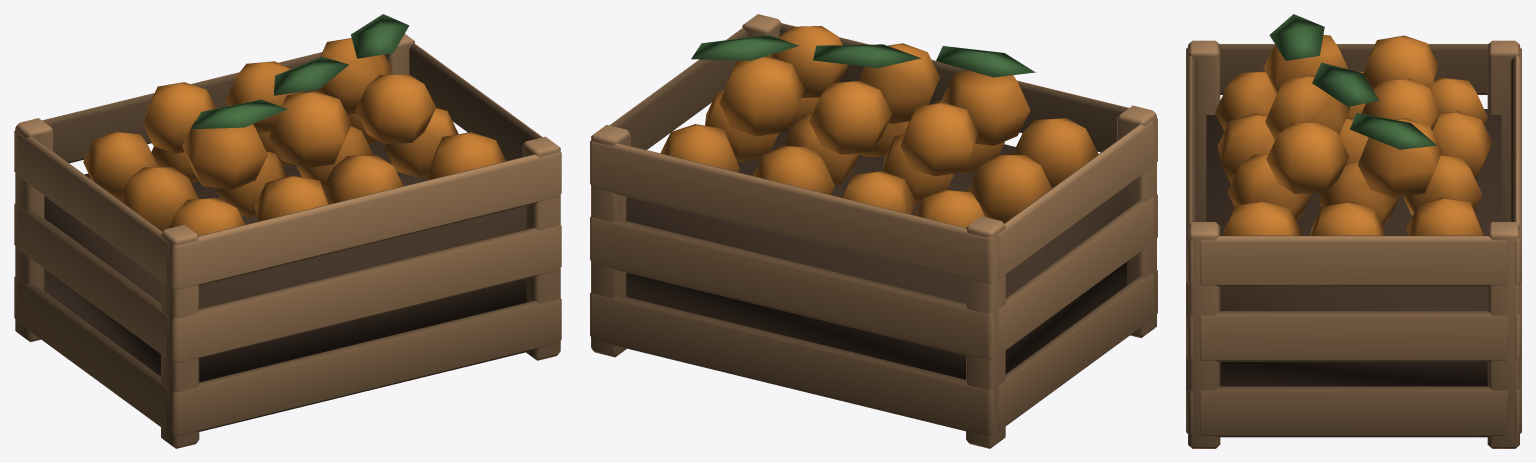
The model's file is ProduceCrate.fbx.
The picture shows the model from 3 angles, left to right: view 1: azimuth 30°, elevation 25°; view 2: azimuth 150°, elevation 25°; view 3: azimuth 270°, elevation 25°; orthographic projection. The views are drawn at different scales.
Parts seen in each view (by area): view 1: ProduceCrate; view 2: ProduceCrate; view 3: ProduceCrate.
Part boxes in pixels (left/top/right/bottom): ProduceCrate: left=14, top=14, right=561, bottom=448; ProduceCrate: left=590, top=14, right=1157, bottom=448; ProduceCrate: left=1186, top=14, right=1521, bottom=448.
Size of the model in its own units: 0.504 by 0.34 by 0.364.
